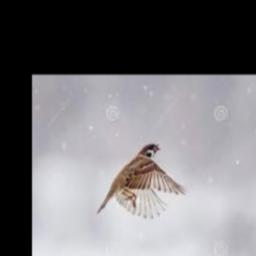Sparrow: (97, 143, 189, 219)
